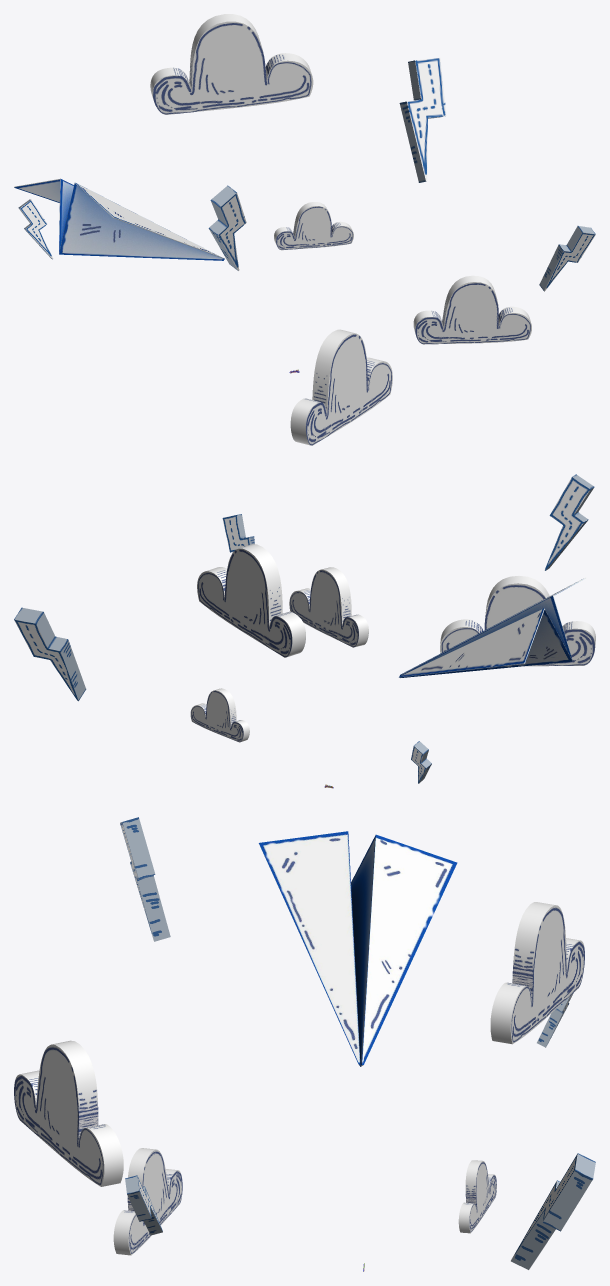
File: aviao1.glb
3 renders of one model, top to bottom at view 1: azimuth 30°, elevation 25°; view 2: azimuth 150°, elevation 25°; view 3: azimuth 270°, elevation 25°, orthographic. The views are drawn at different scales.
Visible parts, largest first — view 1: NUVEM, Plane, NUVEM.003, NUVEM.001, raio, NUVEM.002, raio2, raio2.001, raio.001; view 2: NUVEM, Plane, NUVEM.003, NUVEM.001, raio, raio2, NUVEM.002, raio2.001, raio.001; view 3: Plane, NUVEM.003, NUVEM, NUVEM.001, raio, raio2, NUVEM.002, raio2.001.
Part boxes in pixels (x1,y1,x2,y2): NUVEM: (150, 14, 313, 114); Plane: (14, 178, 224, 260); NUVEM.003: (290, 329, 392, 445); NUVEM.001: (413, 275, 531, 344); raio: (399, 57, 446, 182); NUVEM.002: (274, 202, 353, 250); raio2: (208, 185, 246, 270); raio2.001: (539, 226, 595, 291); raio.001: (18, 199, 53, 259); NUVEM: (197, 544, 305, 657); Plane: (399, 577, 585, 677); NUVEM.003: (440, 576, 595, 666); NUVEM.001: (289, 567, 368, 647); raio: (14, 607, 86, 701); raio2: (544, 474, 594, 570); NUVEM.002: (190, 688, 249, 742); raio2.001: (222, 514, 254, 552); raio.001: (411, 741, 431, 783); Plane: (258, 831, 457, 1066); NUVEM.003: (14, 1040, 123, 1186); NUVEM: (490, 902, 584, 1044); NUVEM.001: (113, 1148, 182, 1255); raio: (511, 1153, 595, 1269); raio2: (120, 817, 170, 941); NUVEM.002: (458, 1160, 496, 1233); raio2.001: (125, 1175, 162, 1235).
Bounding box in the file's own units: 11.9 × 7.18 × 10.36.
Materials: 4 (4 with a texture image).
